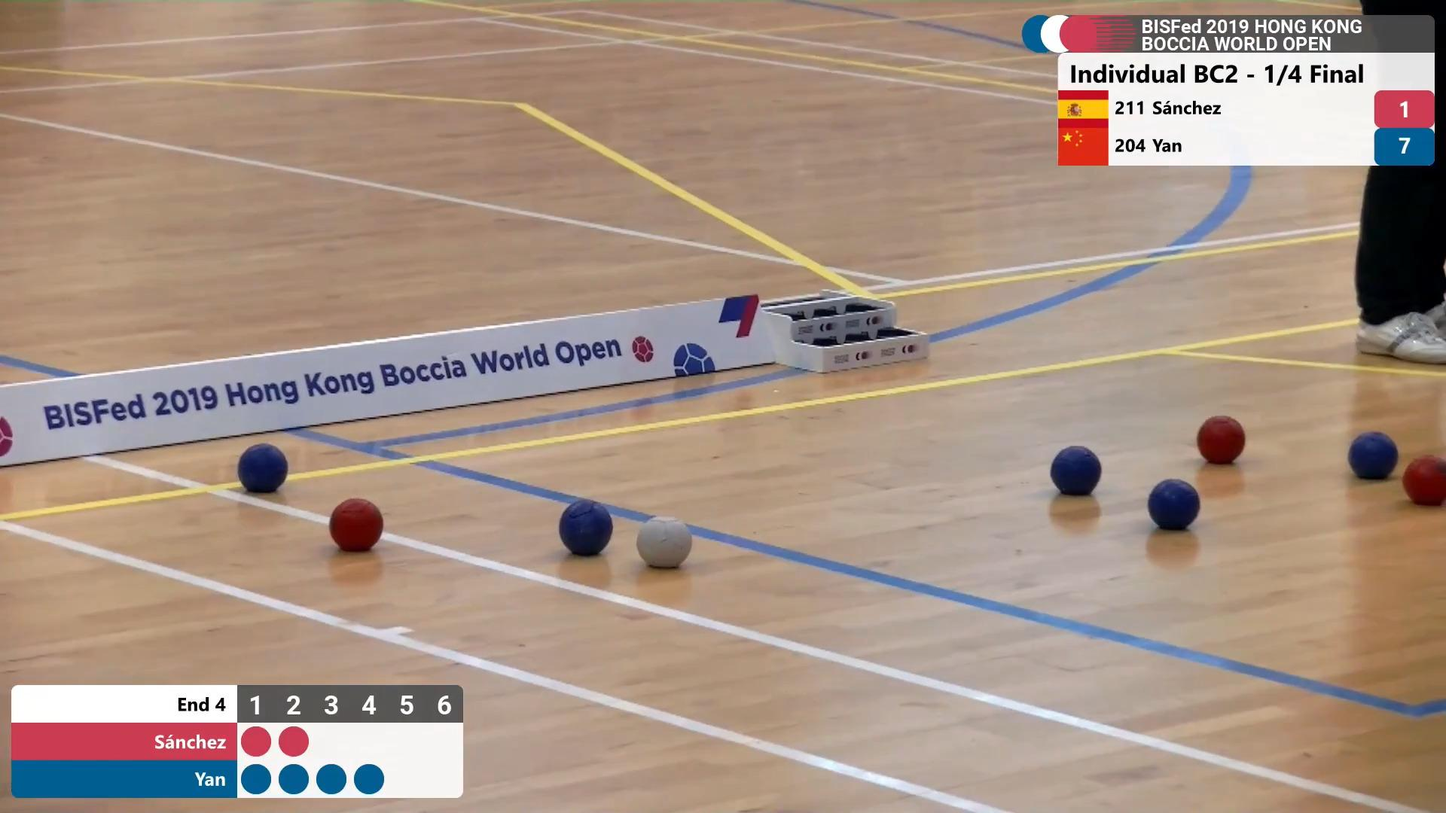blue_ball: (560, 499, 614, 558), (238, 443, 287, 496), (1149, 481, 1200, 531), (1052, 445, 1101, 497), (1351, 432, 1395, 479)
red_ball: (330, 497, 384, 553), (1197, 413, 1245, 463), (1403, 455, 1446, 507)
white_ball: (638, 514, 692, 568)
